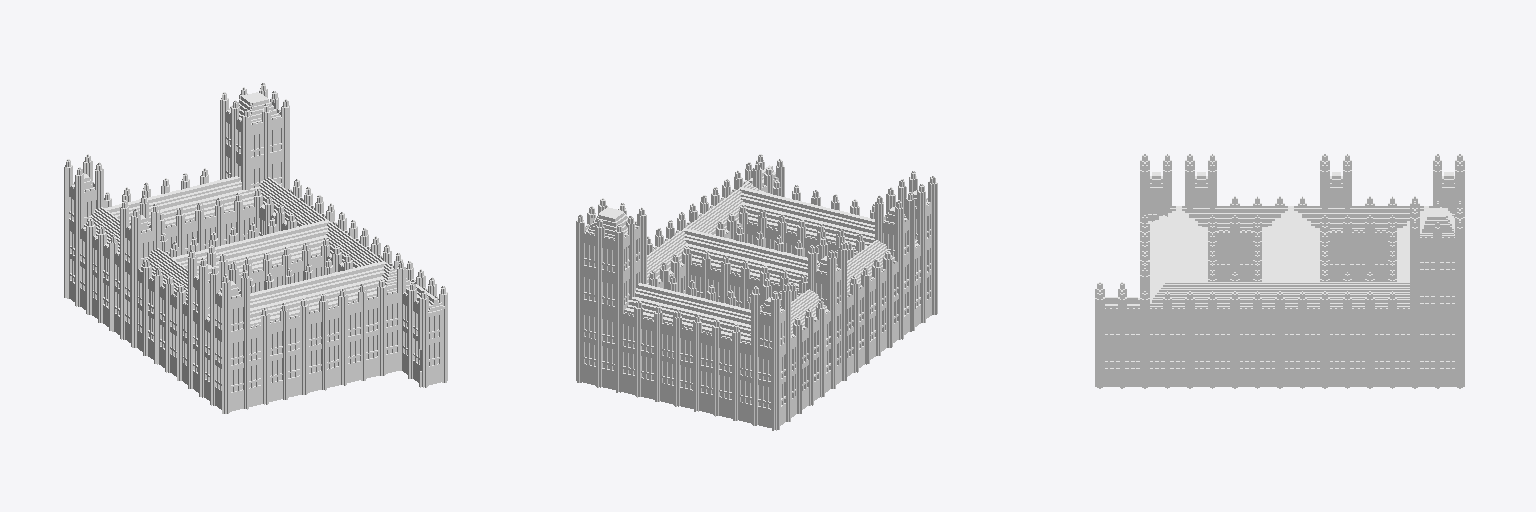
The model's file is BLD_Parliament-0.obj.
The picture shows the model from 3 angles: view 1: azimuth 30°, elevation 25°; view 2: azimuth 150°, elevation 25°; view 3: azimuth 270°, elevation 25°; orthographic projection.
Parts seen in each view (by area): view 1: object 1; view 2: object 1; view 3: object 1.
Part boxes in pixels (left/top/right/bottom): object 1: left=64, top=83, right=447, bottom=413; object 1: left=576, top=154, right=937, bottom=430; object 1: left=1095, top=154, right=1464, bottom=388.
Size of the model in its own units: 12.5 by 9.8 by 19.7.